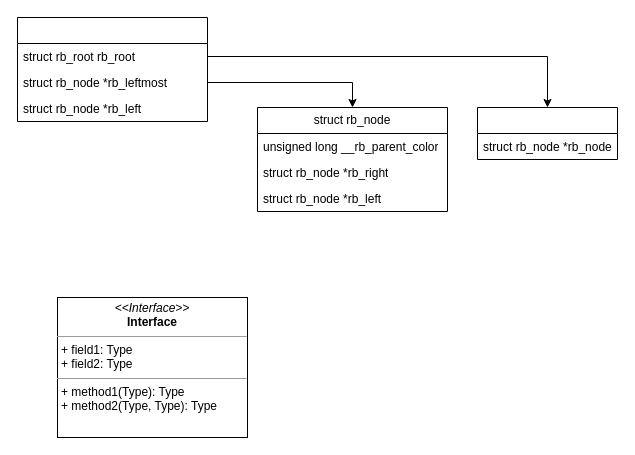
This 635x455 diagram has some shape labels left out. The shapes that lost their labels are listed below. From the top down, each one's box as (x1, y1, x2, y2) in pixels, then its label:
(16, 16, 208, 122): struct rb_root_cached
(476, 106, 618, 160): struct rb_root
